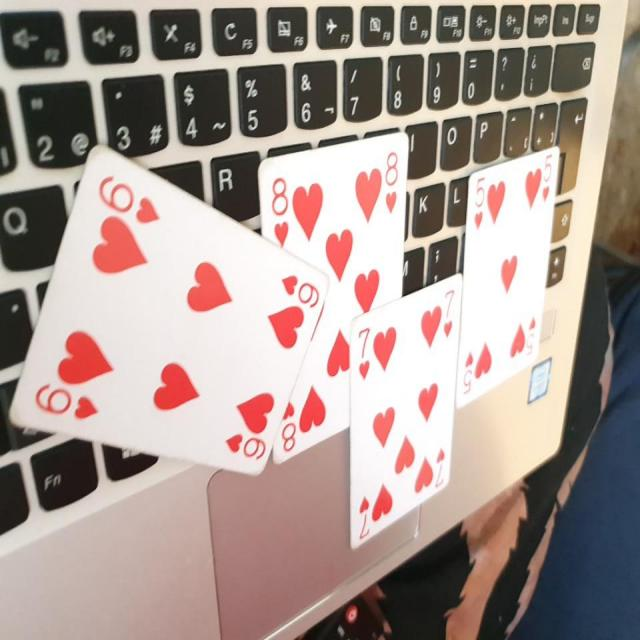5 Hearts: (457, 140, 560, 402)
6 Hearts: (13, 146, 329, 482)
7 Hearts: (350, 275, 470, 528)
8 Hearts: (252, 122, 408, 469)
